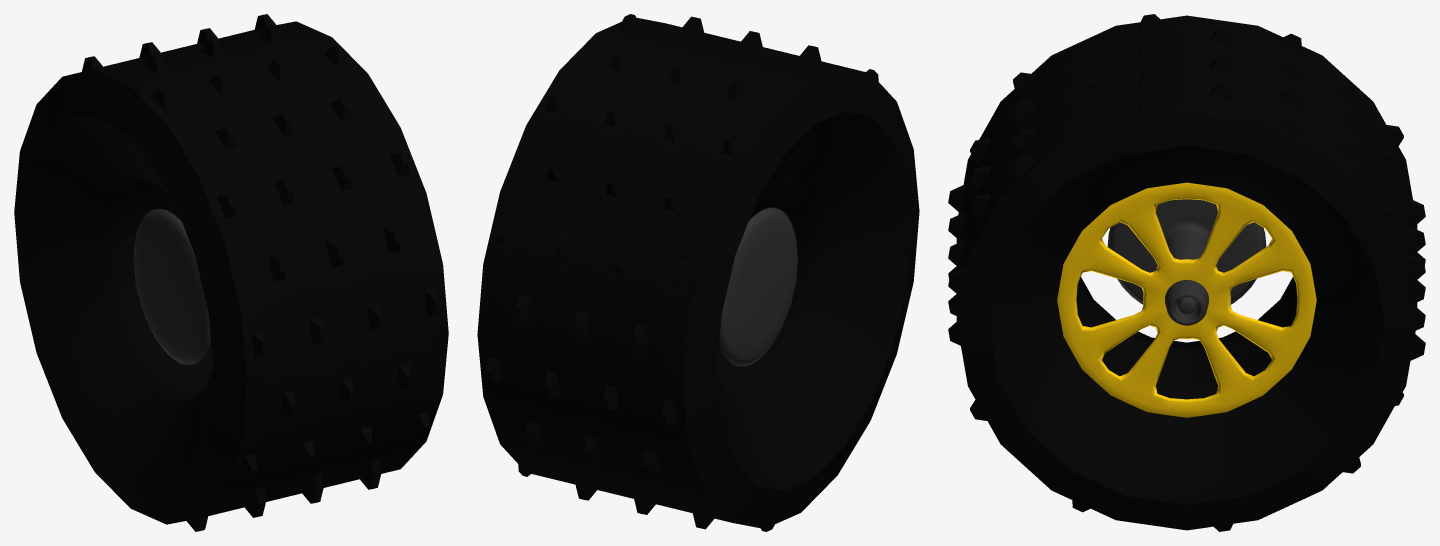
File: space_discoverer_wheel.glb
3 views of the same model, side by side, from view 1: azimuth 30°, elevation 25°; view 2: azimuth 150°, elevation 25°; view 3: azimuth 270°, elevation 25° (orthographic). The views are drawn at different scales.
Parts seen in each view (by area): view 1: pPipe3_Pneus_0; view 2: pPipe3_Pneus_0; view 3: pPipe3_Pneus_0.
Part boxes in pixels (<box>): pPipe3_Pneus_0: <box>14,14,448,531</box>; pPipe3_Pneus_0: <box>477,14,919,531</box>; pPipe3_Pneus_0: <box>948,14,1425,531</box>.
Bounding box in the file's own units: 0.7348 × 1.38 × 1.38.
